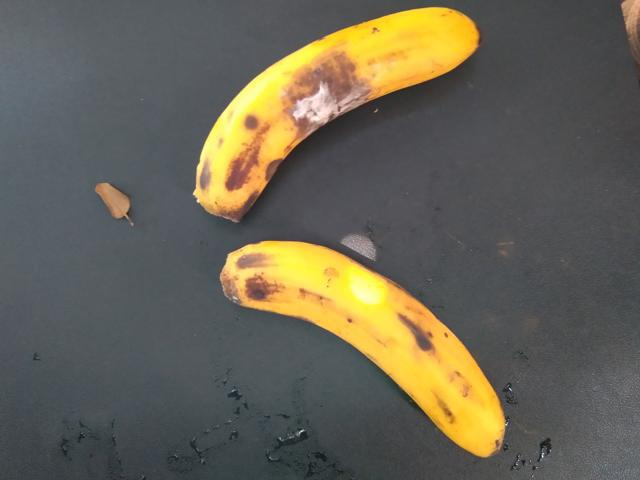ripe: (211, 230, 514, 479)
rotten: (177, 7, 506, 221)
